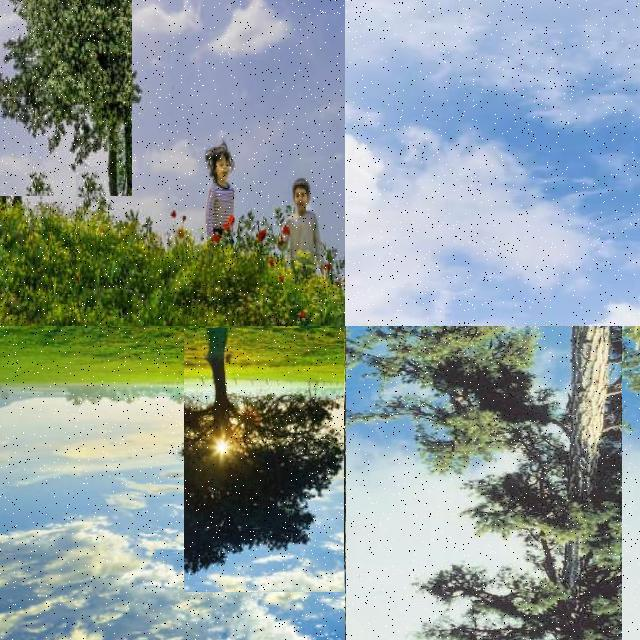tree: (346, 326, 622, 640), (184, 328, 344, 592), (0, 0, 132, 196), (76, 166, 108, 226)
